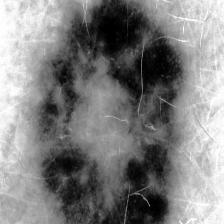Benign Marking or Mole: (33, 0, 184, 224)
